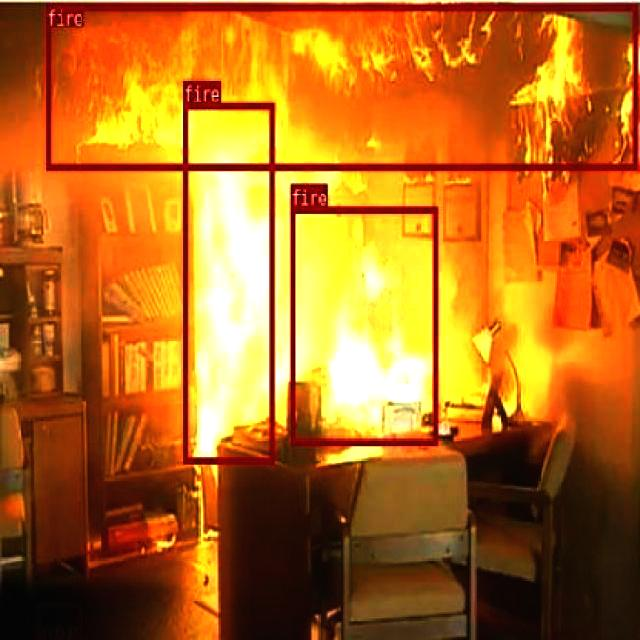fire: (46, 3, 637, 169), (289, 206, 437, 444), (182, 102, 273, 462)
